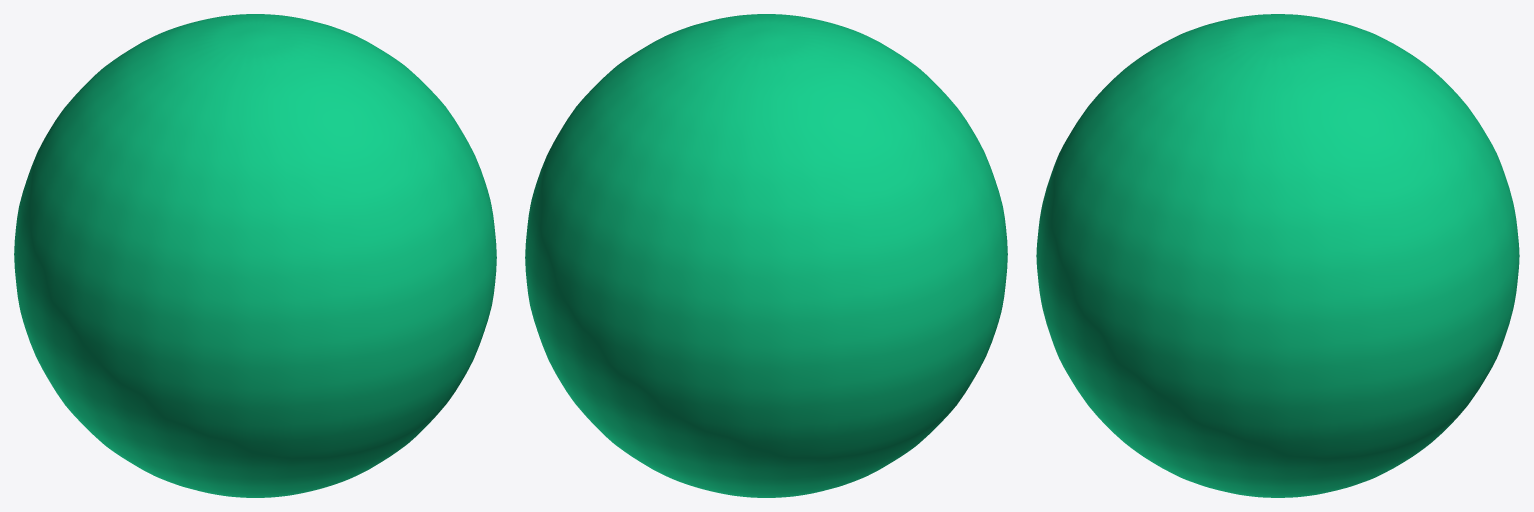
Rendered from BubbleGunProjectile.glb.
3 views of the same model, side by side, from view 1: azimuth 30°, elevation 25°; view 2: azimuth 150°, elevation 25°; view 3: azimuth 270°, elevation 25° (orthographic).
Parts seen in each view (by area): view 1: Sphere; view 2: Sphere; view 3: Sphere.
Part boxes in pixels (<box>): Sphere: <box>14,14,496,497</box>; Sphere: <box>525,14,1007,497</box>; Sphere: <box>1036,14,1519,497</box>.
Bounding box in the file's own units: 1.99 × 2 × 1.99.
